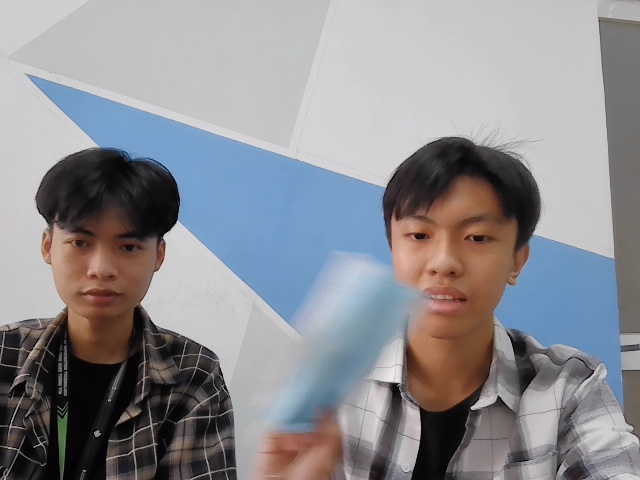human: (383, 136, 542, 346), (33, 146, 186, 320)
